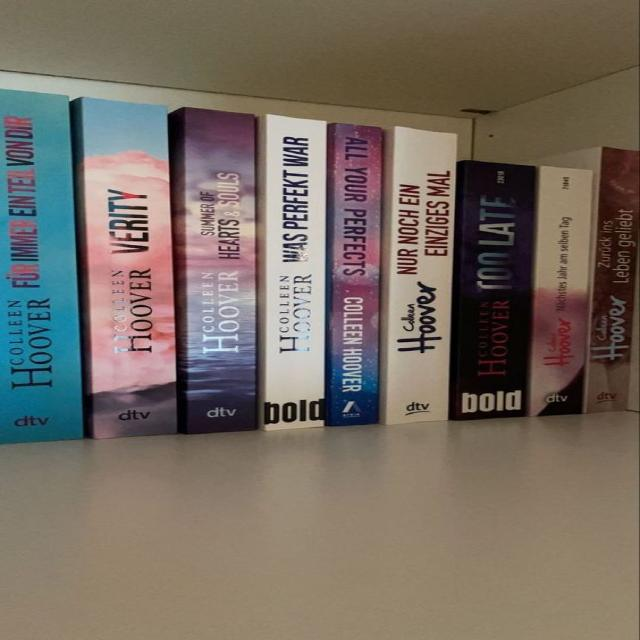book: (73, 98, 176, 439), (0, 89, 83, 444), (169, 108, 258, 434), (378, 126, 456, 425), (449, 160, 534, 420), (259, 114, 326, 432), (566, 147, 639, 412), (325, 123, 384, 426), (525, 166, 591, 417)
